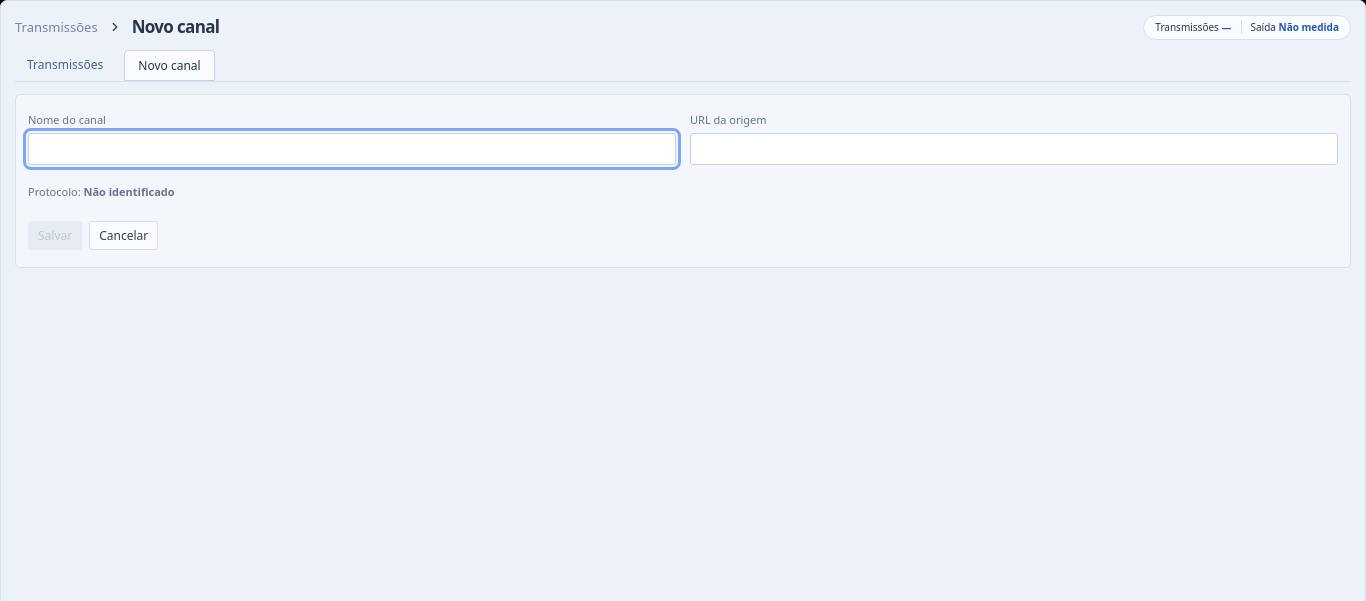
saves name and source then opens the actual channel overview without placing credentials in history
Type "Canal sintético" into the field labelled "Nome do canal" at (352, 149), box [28,133,676,165]
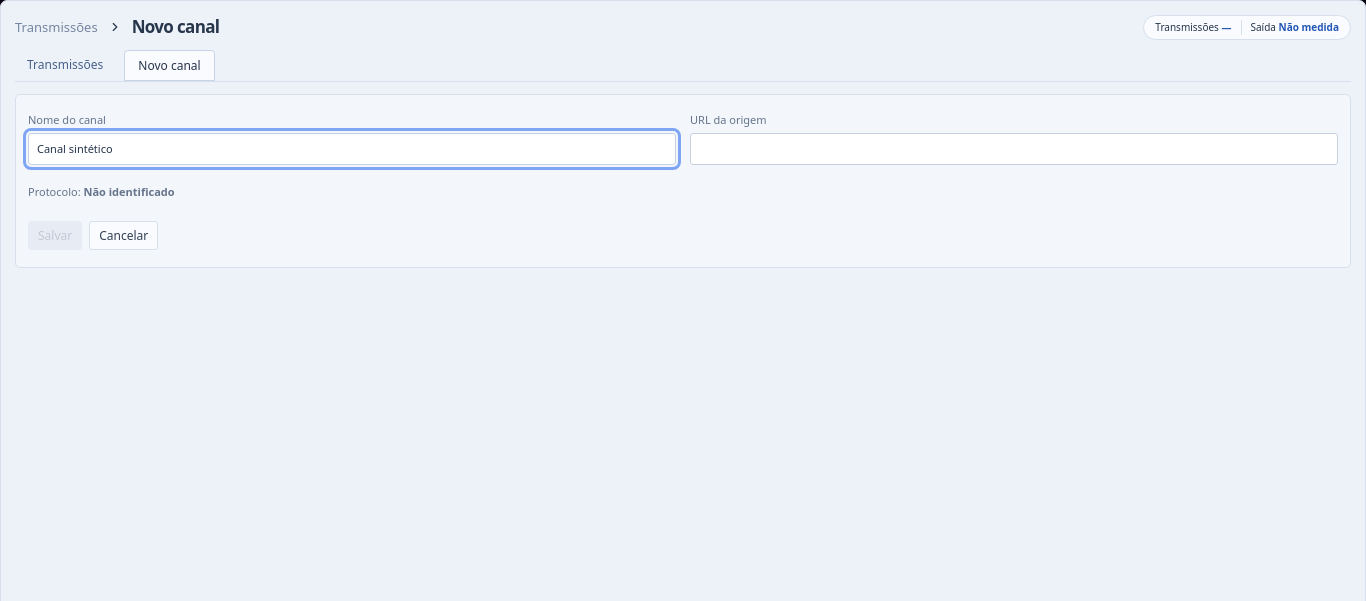
Type "https://synthetic-user:synthetic-password@media.example/CANAL/mpegts?token=synthetic-token" into the field labelled "URL da origem" at (1014, 149), box [690,133,1338,165]
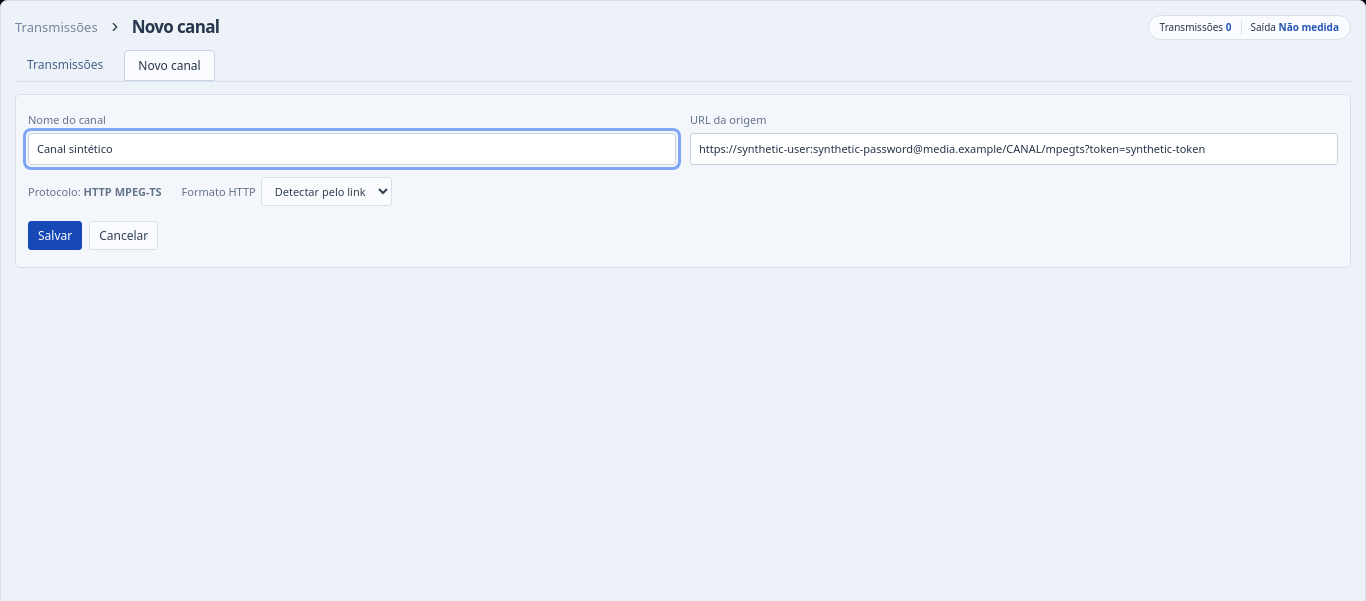
Check: the button "Salvar" is enabled
Click the button "Salvar" at (55, 236), box [28,221,82,250]
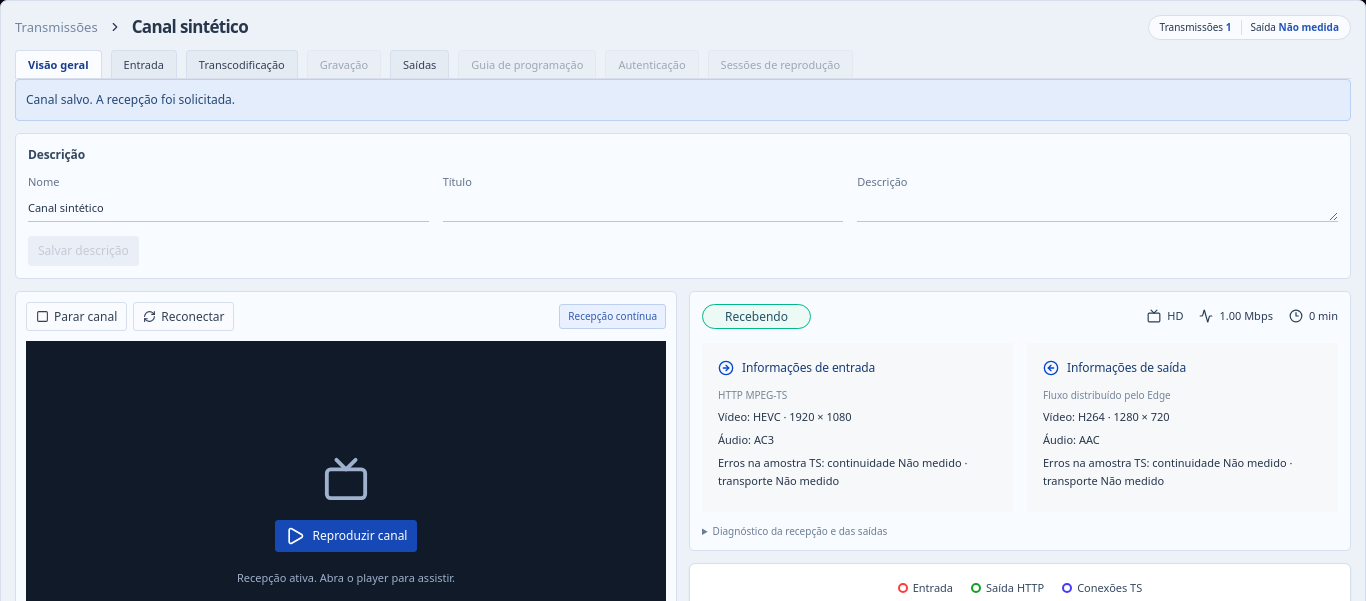
Check: the form named "Descrição do canal" is shown, box [15,133,1351,279]
Check: the tab "Transcodificação" is enabled, box [186,50,298,78]
